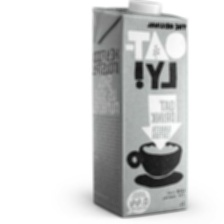carton: (75, 0, 200, 220)
